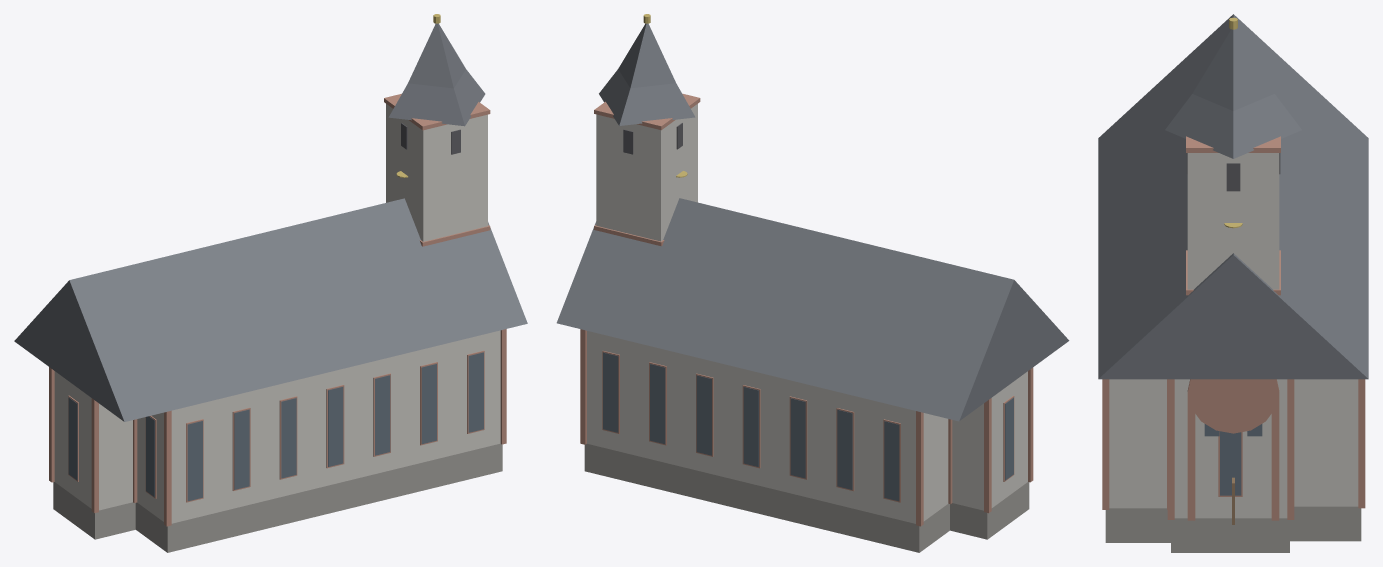
The model's file is landmark-kandern-stadtkirche.glb.
The picture shows the model from 3 angles, left to right: view 1: azimuth 30°, elevation 25°; view 2: azimuth 150°, elevation 25°; view 3: azimuth 270°, elevation 25°; orthographic projection. The views are drawn at different scales.
Visible parts, largest first — view 1: building; view 2: building; view 3: building.
Part boxes in pixels (x1,y1,x2,y2): building: (14, 14, 527, 552); building: (556, 14, 1069, 552); building: (1098, 14, 1368, 552).
Bounding box in the file's own units: 38.6 × 37.3 × 17.75.
